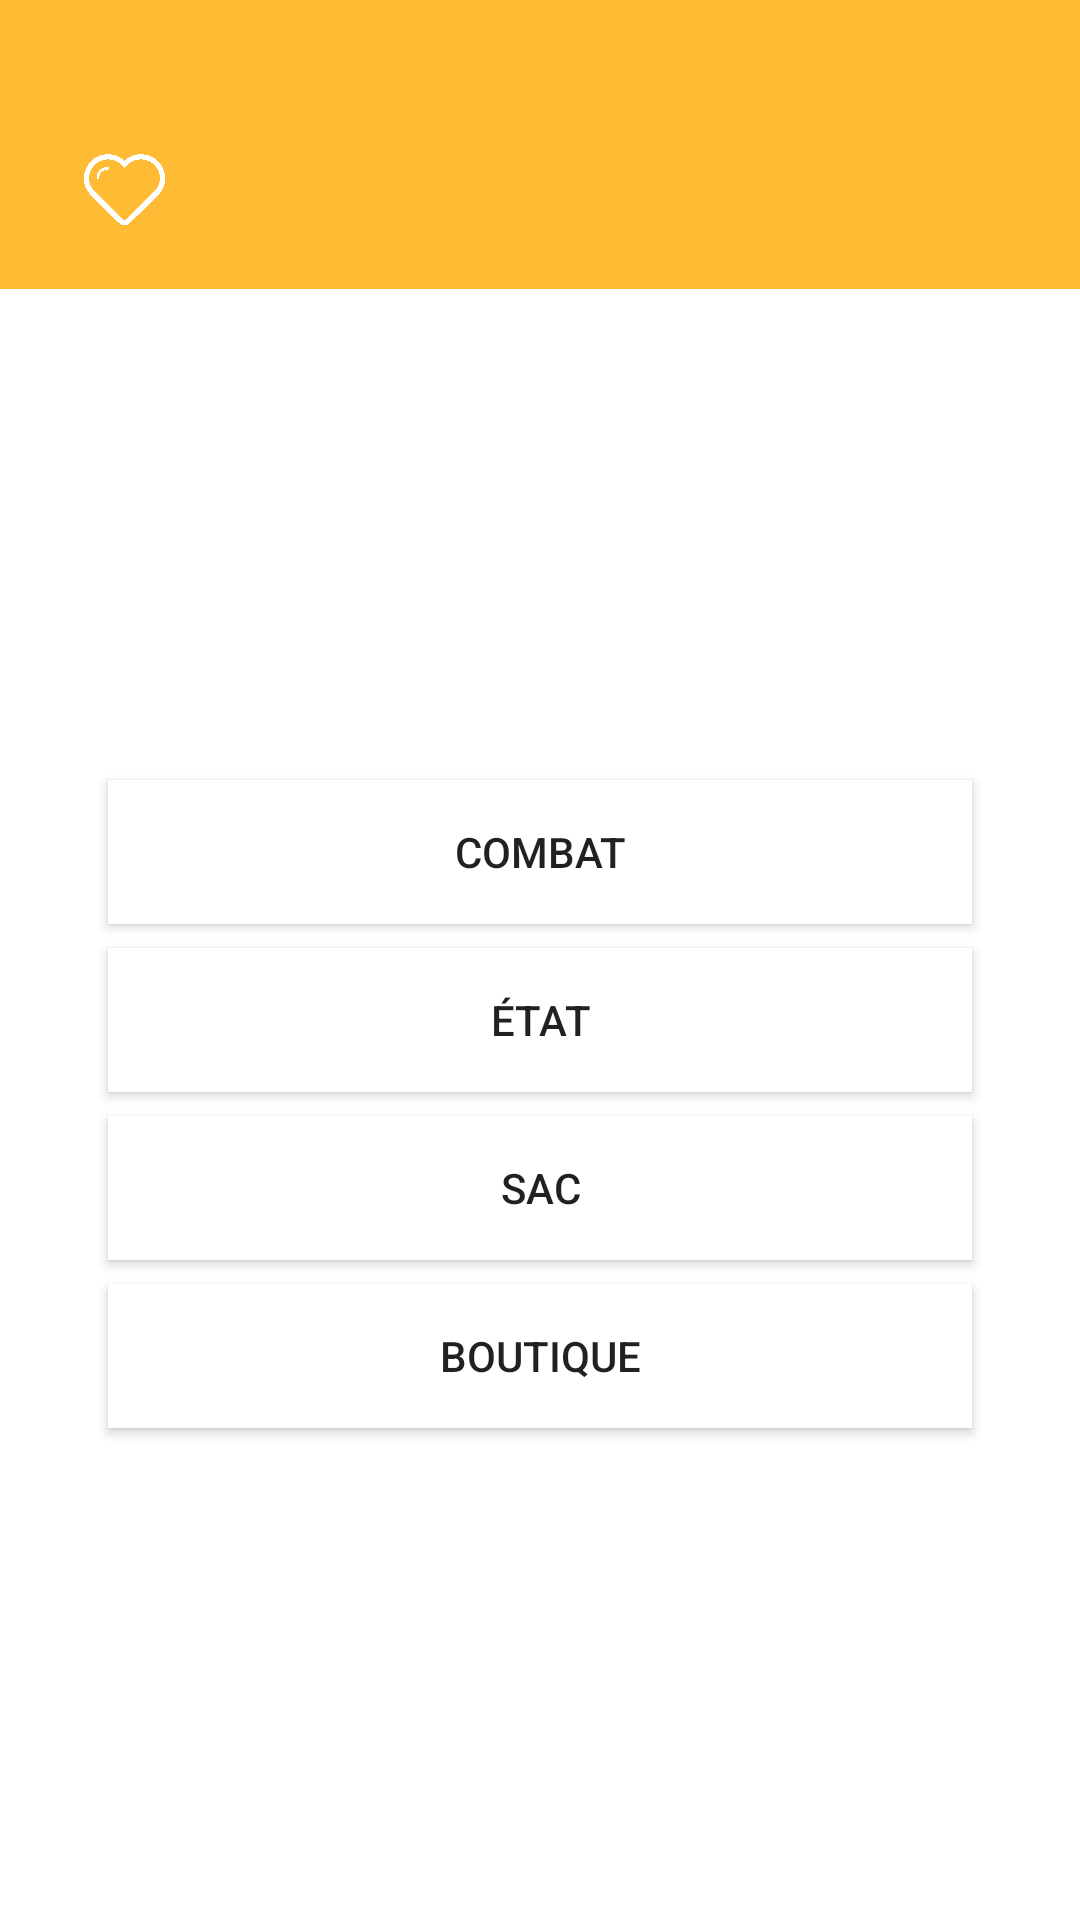

Icon click points for this 1080px×1920px phone screenshot, format [x,y]:
heart: [124,189]
